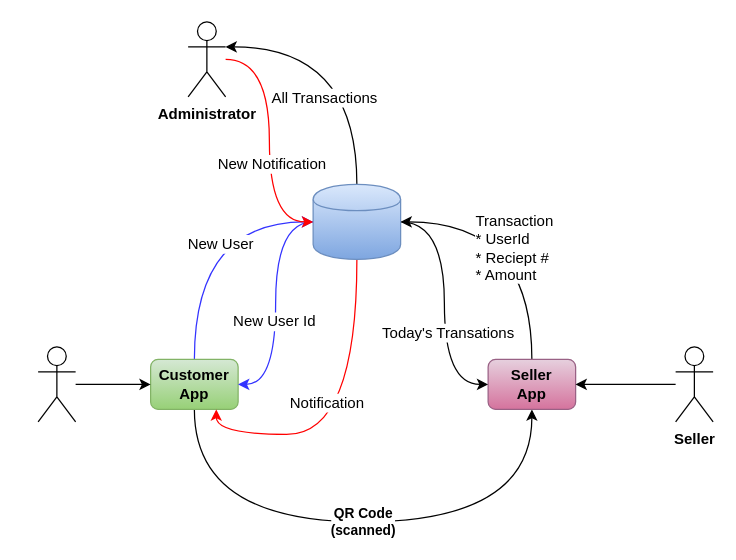
The diagram is 736 pixels wide and 560 high, and some of its shapes have lost their labels. Each missing label, with the centre of its shape:
"Customer" belongs at (x=56, y=384).
"firebase" belongs at (x=356, y=221).
